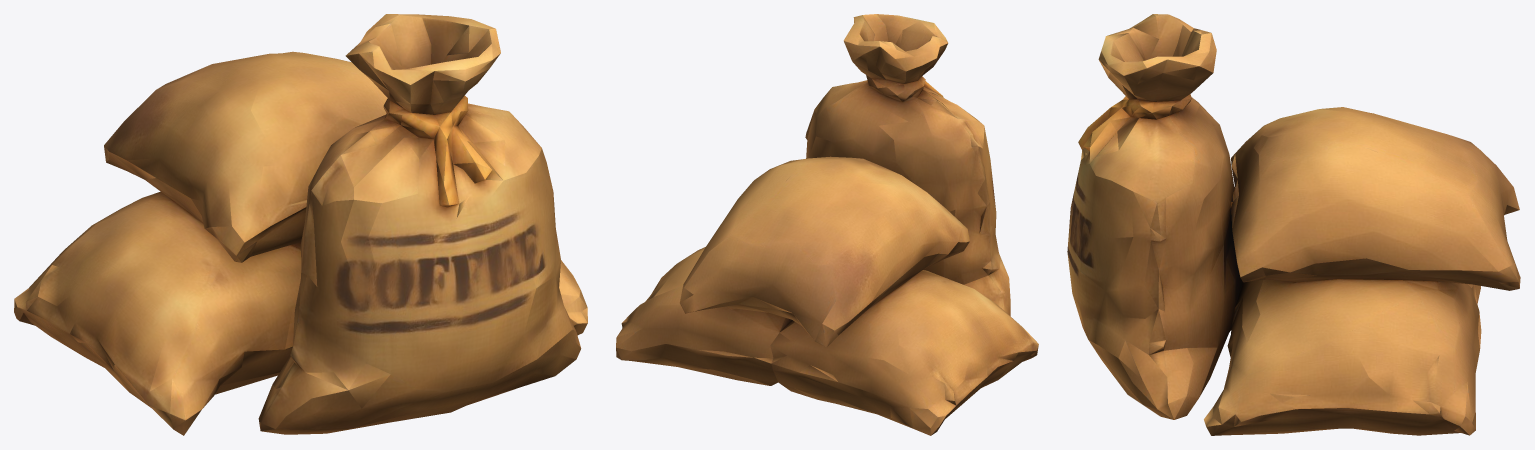
The model's file is 06-coffee-sacks.glb.
3 renders of one model, left to right at view 1: azimuth 30°, elevation 25°; view 2: azimuth 150°, elevation 25°; view 3: azimuth 270°, elevation 25°, orthographic. The views are drawn at different scales.
Visible parts, largest first — view 1: SM_CoffeeSacks; view 2: SM_CoffeeSacks; view 3: SM_CoffeeSacks.
Part boxes in pixels (box(x1,y1,x2,y2)): SM_CoffeeSacks: box(14, 14, 587, 435); SM_CoffeeSacks: box(616, 14, 1038, 435); SM_CoffeeSacks: box(1067, 14, 1520, 435).
Size of the model in its own units: 1.69 by 1.35 by 1.7.
Materials: 1 (1 with a texture image).
